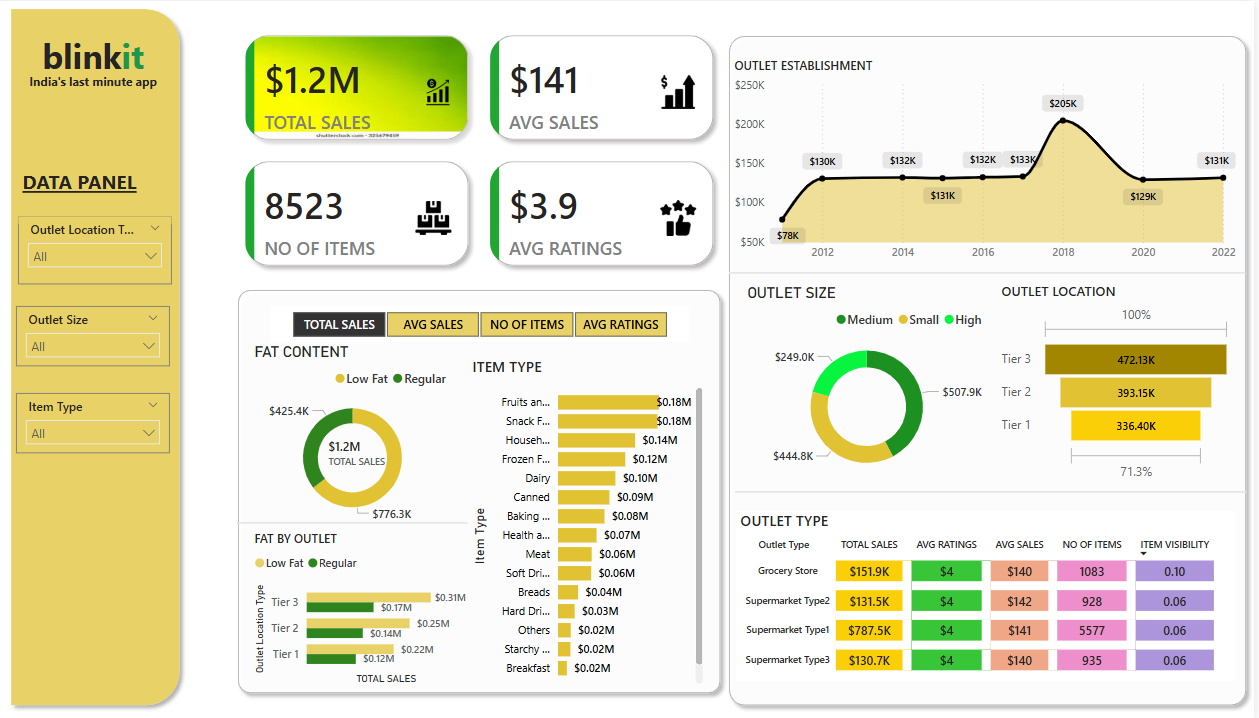

This screenshot's page, from the dashboard's own definition file:
{"tool":"powerbi","page":{"name":"Page 1","canvas":[1400,800],"ordinal":0},"visuals":[{"type":"shape","box":[9.6,0,205.3,791.5],"z":0},{"type":"textbox","box":[24.5,29.8,171.3,66],"z":1000},{"type":"textbox","box":[24.5,75.5,171.3,29.8],"z":2000},{"type":"cardVisual","fields":{"Data":["BlinkIT Grocery Data.TOTAL SALES","BlinkIT Grocery Data.AVG SALES","BlinkIT Grocery Data.No of items","BlinkIT Grocery Data.Avg Ratings"]},"box":[262.8,21.3,555.3,291.5],"z":3000},{"type":"shape","box":[262.8,312.8,554,466],"z":4000},{"type":"donutChart","title":"FAT CONTENT","fields":{"Y":["BlinkIT Grocery Data.TOTAL SALES"],"Category":["BlinkIT Grocery Data.Item Fat Content"]},"box":[284,379.8,227.7,207.4],"z":5000},{"type":"slicer","fields":{"Values":["Metrics.Metrics"]},"box":[306.4,339.4,464.9,40.4],"z":6000},{"type":"cardVisual","fields":{"Data":["BlinkIT Grocery Data.TOTAL SALES"]},"box":[354.3,469.1,104.3,54.3],"z":7000},{"type":"clusteredBarChart","title":"FAT BY OUTLET","fields":{"Y":["BlinkIT Grocery Data.TOTAL SALES"],"Category":["BlinkIT Grocery Data.Outlet Location Type"],"Series":["BlinkIT Grocery Data.Item Fat Content"]},"box":[284,588.3,244.7,175.5],"z":8000},{"type":"shape","box":[270.2,502.1,256.4,155.3],"z":9000},{"type":"barChart","title":"ITEM TYPE","fields":{"Y":["BlinkIT Grocery Data.TOTAL SALES"],"Category":["BlinkIT Grocery Data.Item Type"]},"box":[526.6,395.7,266,368.1],"z":10000},{"type":"shape","box":[807.4,29.8,592.6,761.7],"z":11000},{"type":"lineChart","title":"OUTLET ESTABLISHMENT","fields":{"Category":["BlinkIT Grocery Data.Outlet Establishment Year"],"Y":["BlinkIT Grocery Data.TOTAL SALES"]},"box":[818.1,62.8,567,235.1],"z":12000},{"type":"shape","box":[817,224.5,574.5,155.3],"z":13000},{"type":"donutChart","title":"OUTLET SIZE","fields":{"Y":["BlinkIT Grocery Data.TOTAL SALES"],"Category":["BlinkIT Grocery Data.Outlet Size"]},"box":[831.9,314.9,275,225],"z":14000},{"type":"funnel","title":"OUTLET LOCATION","fields":{"Category":["BlinkIT Grocery Data.Outlet Location Type"],"Y":["Sum(BlinkIT Grocery Data.Sales)"]},"box":[1114.9,312.8,265,225.5],"z":15000},{"type":"shape","box":[823.4,468.1,568.1,155.3],"z":16000},{"type":"pivotTable","title":"OUTLET TYPE","fields":{"Values":["BlinkIT Grocery Data.TOTAL SALES","BlinkIT Grocery Data.AVG RATINGS","BlinkIT Grocery Data.AVG SALES","BlinkIT Grocery Data.NO OF ITEMS","Avg(BlinkIT Grocery Data.Item Visibility)"],"Rows":["BlinkIT Grocery Data.Outlet Type"]},"box":[824.5,567,555.3,189.4],"z":16001},{"type":"slicer","fields":{"Values":["BlinkIT Grocery Data.Outlet Location Type"]},"box":[26.6,239.4,171.3,75.5],"z":16002},{"type":"slicer","fields":{"Values":["BlinkIT Grocery Data.Outlet Size"]},"box":[24.5,339.4,171.3,67],"z":16003},{"type":"slicer","fields":{"Values":["BlinkIT Grocery Data.Item Type"]},"box":[24.5,435.1,171.3,67],"z":16004},{"type":"textbox","box":[26.6,180.9,171.3,67],"z":16005}]}

Visuals, with their boxes in screenshot pixels (x1, y1, x2, y2), scaled from the page's 1400x800 canvas onto the 1259x718 screenshot:
shape: crop(9, 0, 193, 710)
textbox: crop(22, 27, 176, 86)
textbox: crop(22, 68, 176, 95)
cardVisual - BlinkIT Grocery Data.TOTAL SALES x BlinkIT Grocery Data.AVG SALES: crop(236, 19, 736, 281)
shape: crop(236, 281, 735, 699)
"FAT CONTENT" donutChart: crop(255, 341, 460, 527)
slicer - Metrics.Metrics: crop(276, 305, 694, 341)
cardVisual - BlinkIT Grocery Data.TOTAL SALES: crop(319, 421, 412, 470)
"FAT BY OUTLET" clusteredBarChart: crop(255, 528, 475, 686)
shape: crop(243, 451, 474, 590)
"ITEM TYPE" barChart: crop(474, 355, 713, 686)
shape: crop(726, 27, 1258, 710)
"OUTLET ESTABLISHMENT" lineChart: crop(736, 56, 1246, 267)
shape: crop(735, 201, 1251, 341)
"OUTLET SIZE" donutChart: crop(748, 283, 995, 485)
"OUTLET LOCATION" funnel: crop(1003, 281, 1241, 483)
shape: crop(740, 420, 1251, 560)
"OUTLET TYPE" pivotTable: crop(741, 509, 1241, 679)
slicer - BlinkIT Grocery Data.Outlet Location Type: crop(24, 215, 178, 283)
slicer - BlinkIT Grocery Data.Outlet Size: crop(22, 305, 176, 365)
slicer - BlinkIT Grocery Data.Item Type: crop(22, 391, 176, 451)
textbox: crop(24, 162, 178, 222)
